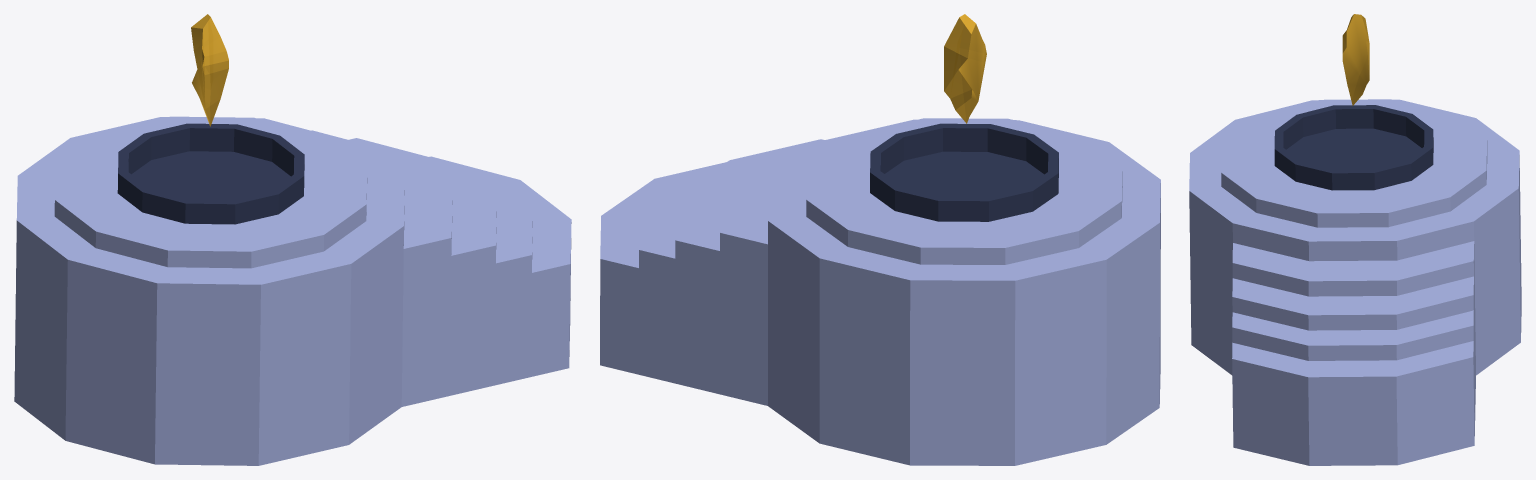
Rendered from Pedestal2.fbx.
The picture shows the model from 3 angles, left to right: view 1: azimuth 30°, elevation 25°; view 2: azimuth 150°, elevation 25°; view 3: azimuth 270°, elevation 25°; orthographic projection. The views are drawn at different scales.
Parts seen in each view (by area): view 1: Cylinder, Cube; view 2: Cylinder, Cube; view 3: Cylinder, Cube.
Boxes of the visible parts, bbox=[...] form: Cylinder: bbox=[14, 116, 571, 465]; Cube: bbox=[191, 14, 228, 126]; Cylinder: bbox=[600, 118, 1160, 465]; Cube: bbox=[944, 14, 986, 123]; Cylinder: bbox=[1189, 99, 1521, 465]; Cube: bbox=[1342, 14, 1369, 105].
Size of the model in its own units: 1652 by 1158 by 1110.
